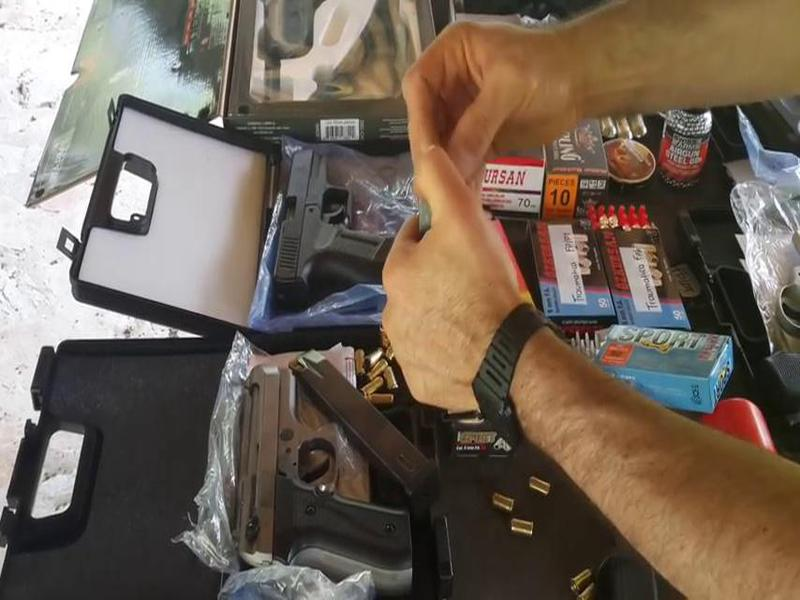Pistola: (210, 322, 453, 592), (273, 136, 419, 326)
